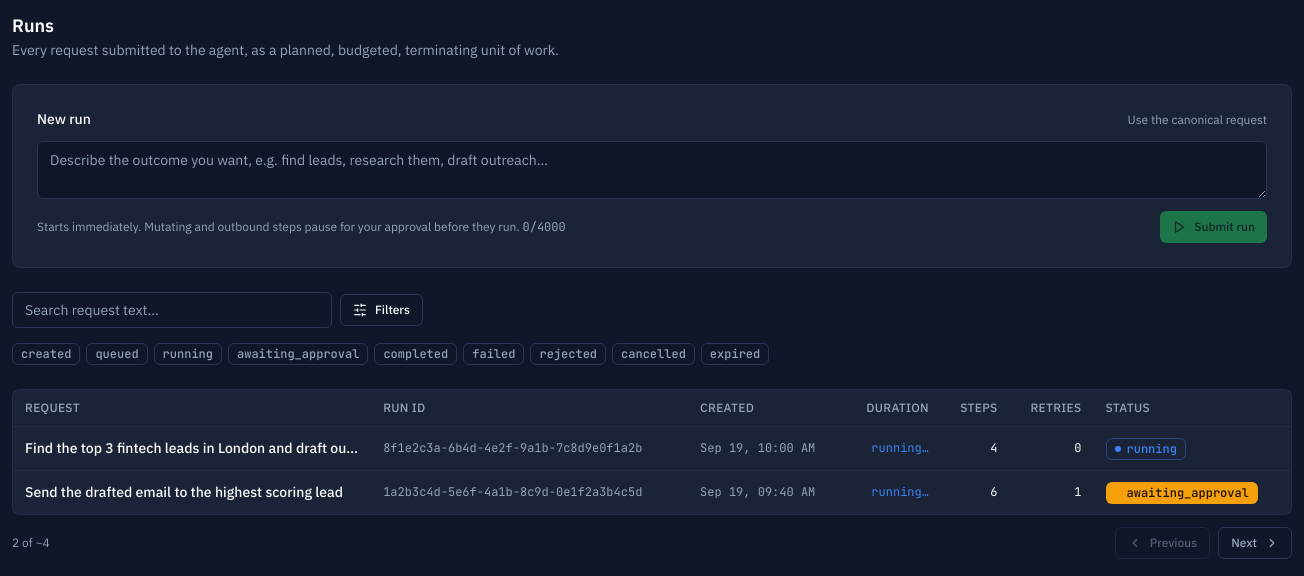
Test: RunsPage › pages backward by returning to the cursor already seen, without re-deriving one
Expected: the table is shown, x1=13 y1=390 x2=1291 y2=514
Step 1. Click the button "Next" → (1255, 542), box x1=1218 y1=526 x2=1292 y2=558
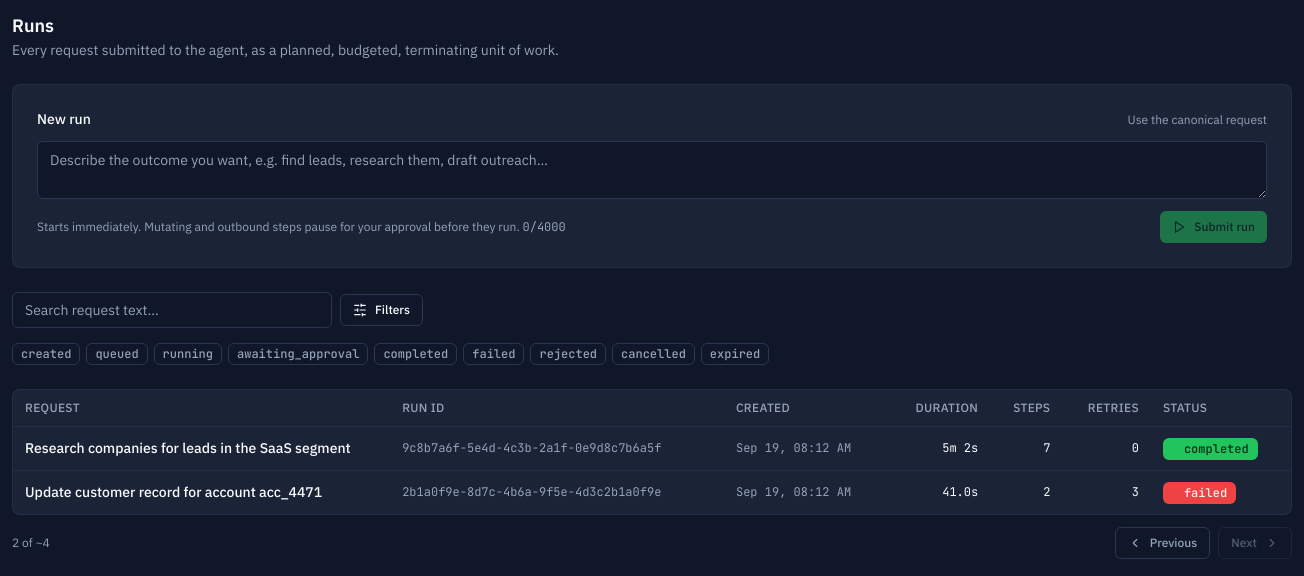
Expected: the text "Research companies for leads in the SaaS segment" is shown, x1=13 y1=426 x2=390 y2=470
Step 2. Click the button "Previous" → (1162, 542), box x1=1115 y1=526 x2=1210 y2=558
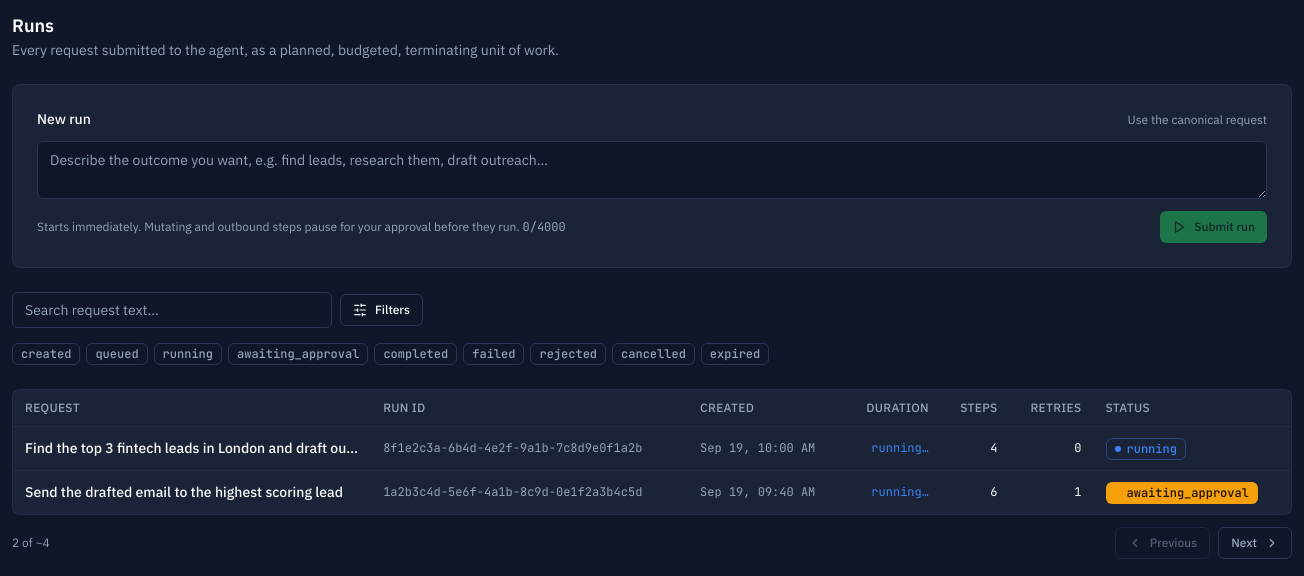
Expected: the text "Find the top 3 fintech leads in London and draft outreach" is shown, x1=13 y1=426 x2=371 y2=470
